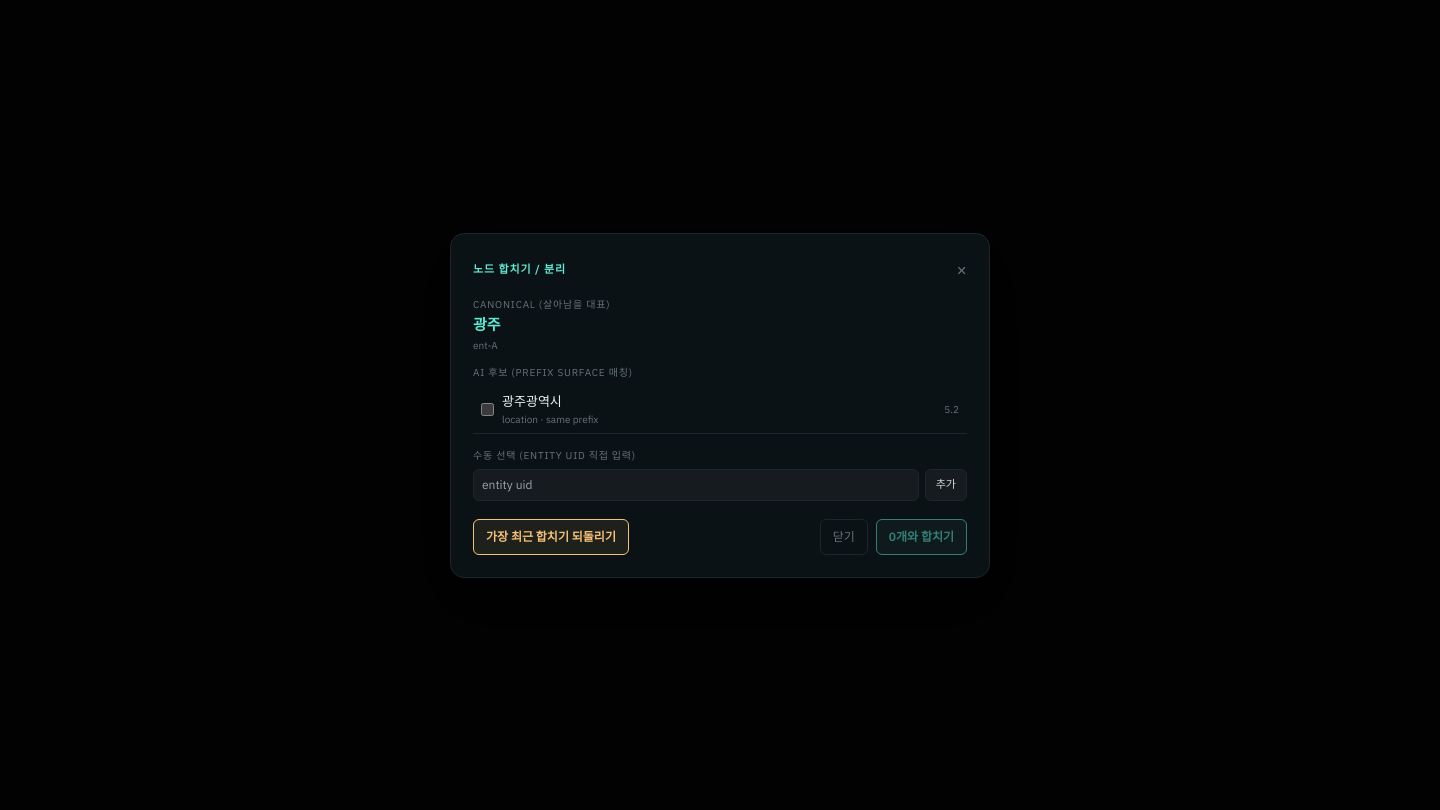
Test: MergeCandidatesModal › submits selected candidates as members + anchor (광주 + 광주광역시 case)
The width and height of the screenshot is (1440, 810).
Expected: the list item with test id "merge-modal-candidate" is shown, [473, 386, 967, 434]
Step 1. Click the checkbox with test id "merge-candidate-toggle-ent-B" → (488, 409), box [481, 403, 494, 416]
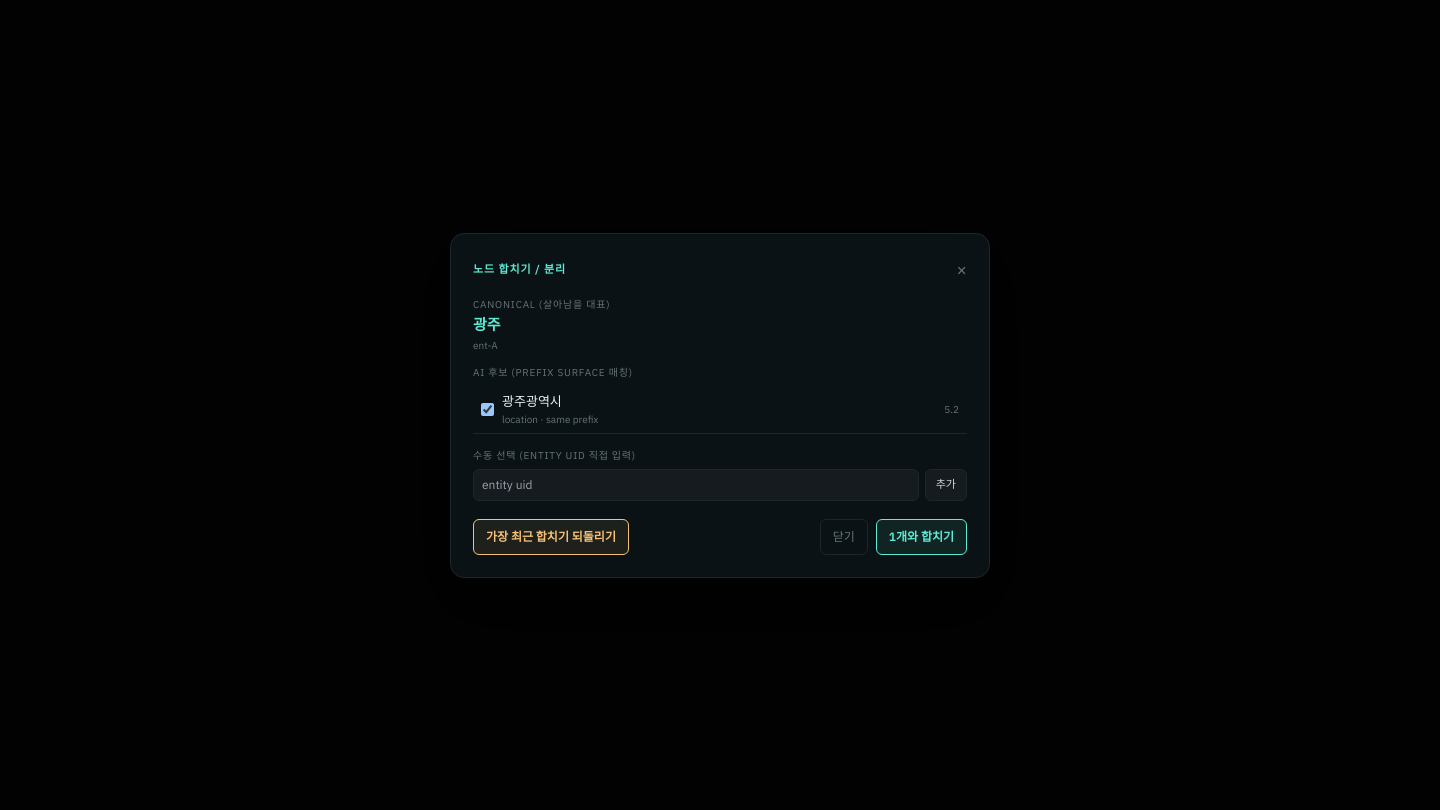
Step 2. Click the button with test id "merge-modal-submit" → (921, 536), box [876, 518, 967, 554]
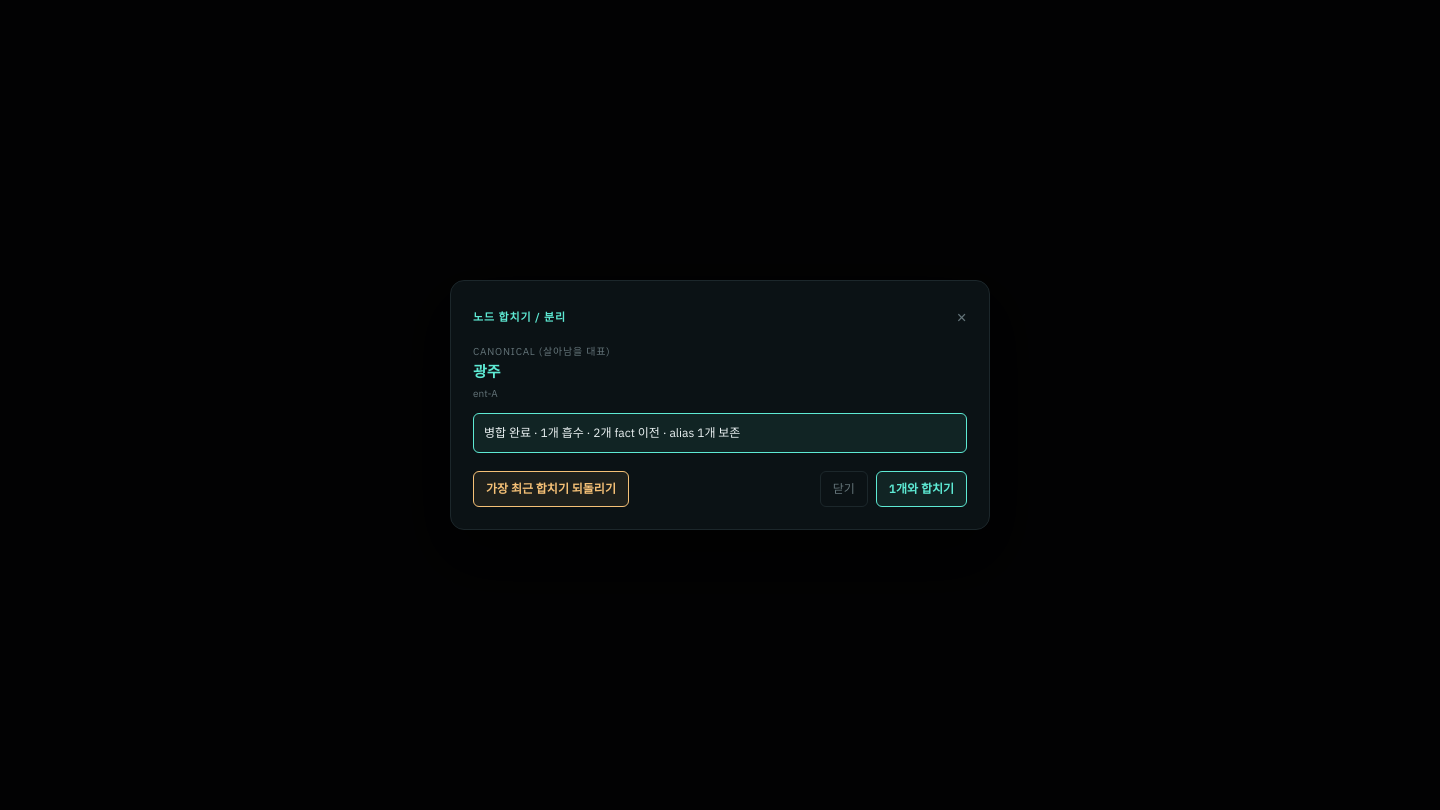
Expected: the text with test id "merge-result-banner" shows "병합 완료", [484, 425, 541, 440]
